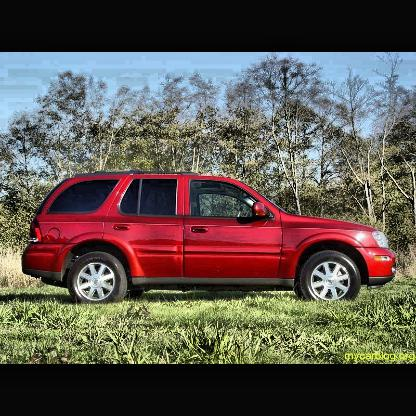Buick Rainier SUV 2007: (22, 171, 400, 308)
